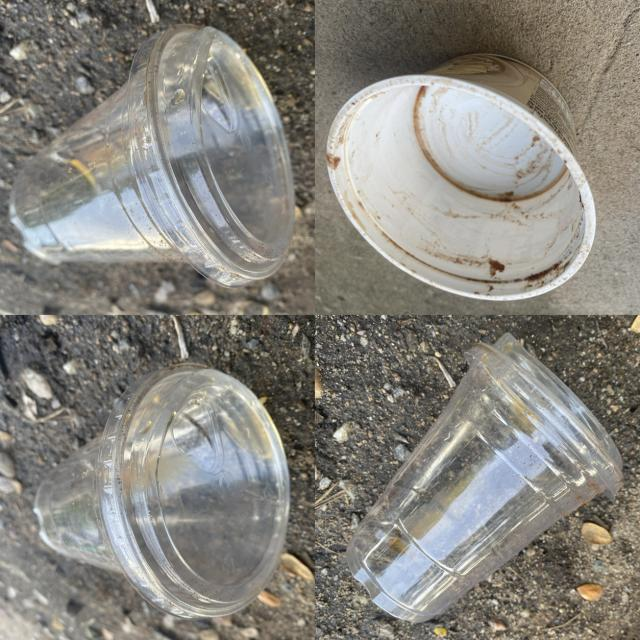plastik: (347, 333, 621, 622), (10, 25, 294, 288), (326, 53, 594, 300), (34, 365, 289, 619)
